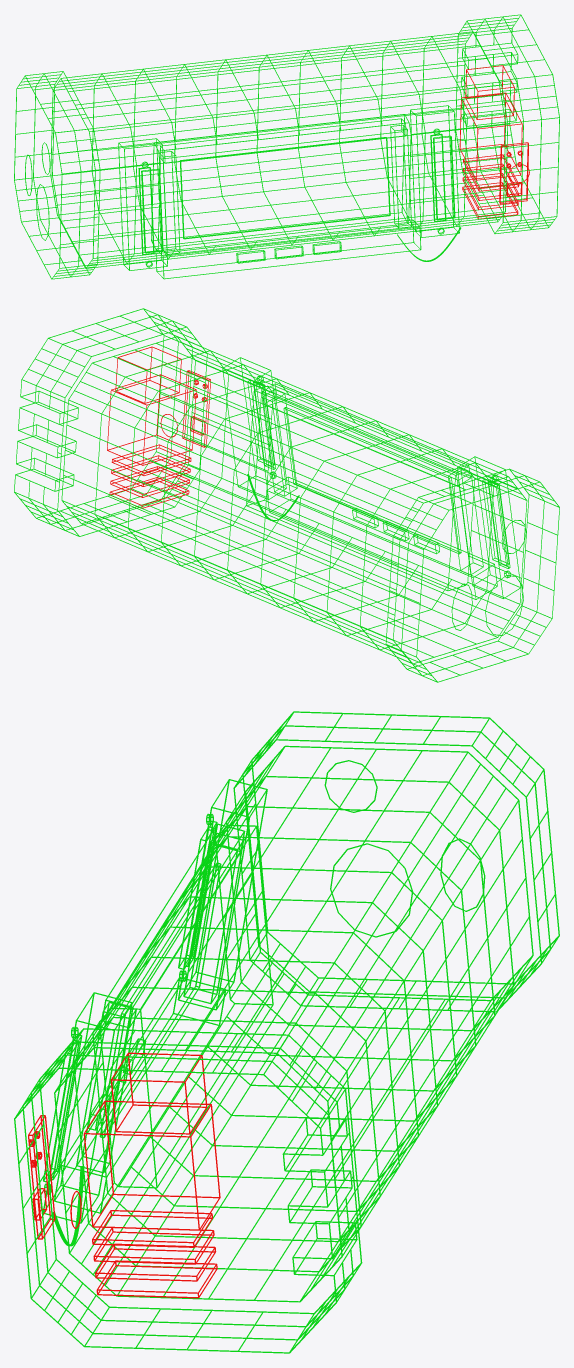
The model's file is long-range-transmitter-highlight-data-encryption-device.glb.
3 renders of one model, top to bottom at view 1: azimuth 30°, elevation 25°; view 2: azimuth 150°, elevation 25°; view 3: azimuth 270°, elevation 25°, orthographic. The views are drawn at different scales.
Parts seen in each view (by area): view 1: chassis technical wire, data-cartridge-drives technical wire, data-encryption-device technical wire, audio-visual-console technical wire; view 2: chassis technical wire, data-encryption-device technical wire, data-cartridge-drives technical wire, audio-visual-console technical wire; view 3: chassis technical wire, data-encryption-device technical wire, data-cartridge-drives technical wire, audio-visual-console technical wire.
Part boxes in pixels (x1,y1,x2,y2): chassis technical wire: (14, 14, 559, 279); data-cartridge-drives technical wire: (118, 105, 459, 270); data-encryption-device technical wire: (459, 65, 529, 218); audio-visual-console technical wire: (180, 137, 390, 263); chassis technical wire: (14, 308, 559, 682); data-encryption-device technical wire: (107, 346, 210, 508); data-cartridge-drives technical wire: (222, 357, 520, 598); audio-visual-console technical wire: (283, 407, 461, 554); chassis technical wire: (14, 711, 559, 1353); data-encryption-device technical wire: (28, 1052, 220, 1298); data-cartridge-drives technical wire: (43, 779, 267, 1223); audio-visual-console technical wire: (88, 862, 221, 1138).
Bounding box in the file's own units: 3.33 × 1.15 × 1.92.
